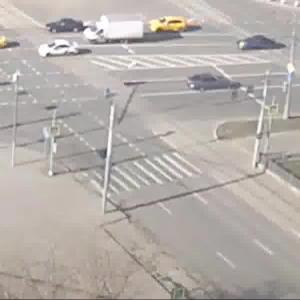car: (87, 16, 146, 54), (238, 36, 290, 61), (190, 75, 244, 99), (39, 37, 82, 65), (148, 17, 190, 38), (47, 20, 87, 42), (1, 34, 15, 55)
